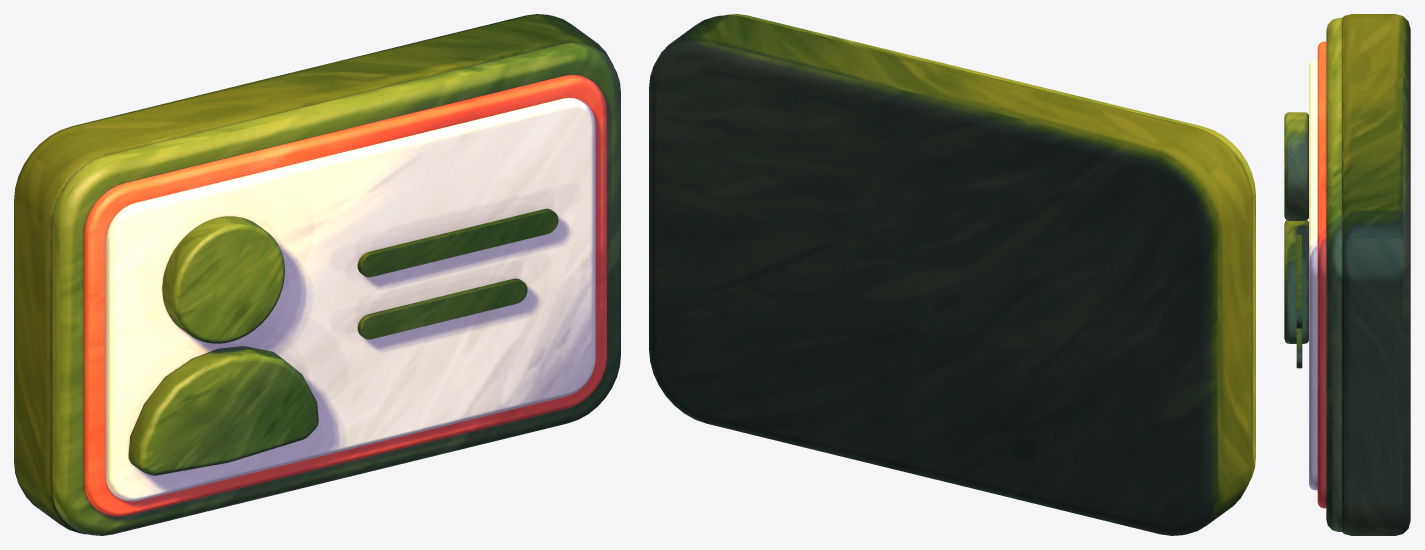
The model's file is profile.glb.
3 renders of one model, left to right at view 1: azimuth 30°, elevation 25°; view 2: azimuth 150°, elevation 25°; view 3: azimuth 270°, elevation 25°, orthographic. The views are drawn at different scales.
Parts seen in each view (by area): view 1: Ivory face, Enamel bezel, Deep olive case, Continuous coral trim, Portrait • shoulders, Portrait • head, Ruled entry.030, Ruled entry.031; view 2: Deep olive case, Enamel bezel; view 3: Deep olive case, Enamel bezel, Continuous coral trim, Ivory face, Portrait • head, Portrait • shoulders, Ruled entry.030, Ruled entry.031.
Part boxes in pixels (<box>): Ivory face: <box>105,97,595,501</box>; Enamel bezel: <box>52,42,620,535</box>; Deep olive case: <box>14,14,613,534</box>; Continuous coral trim: <box>83,75,606,516</box>; Portrait • shoulders: <box>128,346,318,475</box>; Portrait • head: <box>162,216,284,343</box>; Ruled entry.030: <box>357,208,558,277</box>; Ruled entry.031: <box>357,278,527,339</box>; Deep olive case: <box>649,15,1252,535</box>; Enamel bezel: <box>725,14,1255,481</box>; Deep olive case: <box>1342,14,1410,535</box>; Enamel bezel: <box>1326,18,1342,531</box>; Continuous coral trim: <box>1317,41,1326,508</box>; Ivory face: <box>1309,59,1317,490</box>; Portrait • head: <box>1284,112,1308,220</box>; Portrait • shoulders: <box>1284,220,1308,343</box>; Ruled entry.030: <box>1296,235,1302,328</box>; Ruled entry.031: <box>1296,328,1302,368</box>.
Bounding box in the file's own units: 2.41 × 1.55 × 0.5459.
5 materials, 5 textured.
